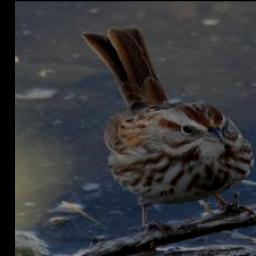Sparrow: (79, 24, 256, 241)
